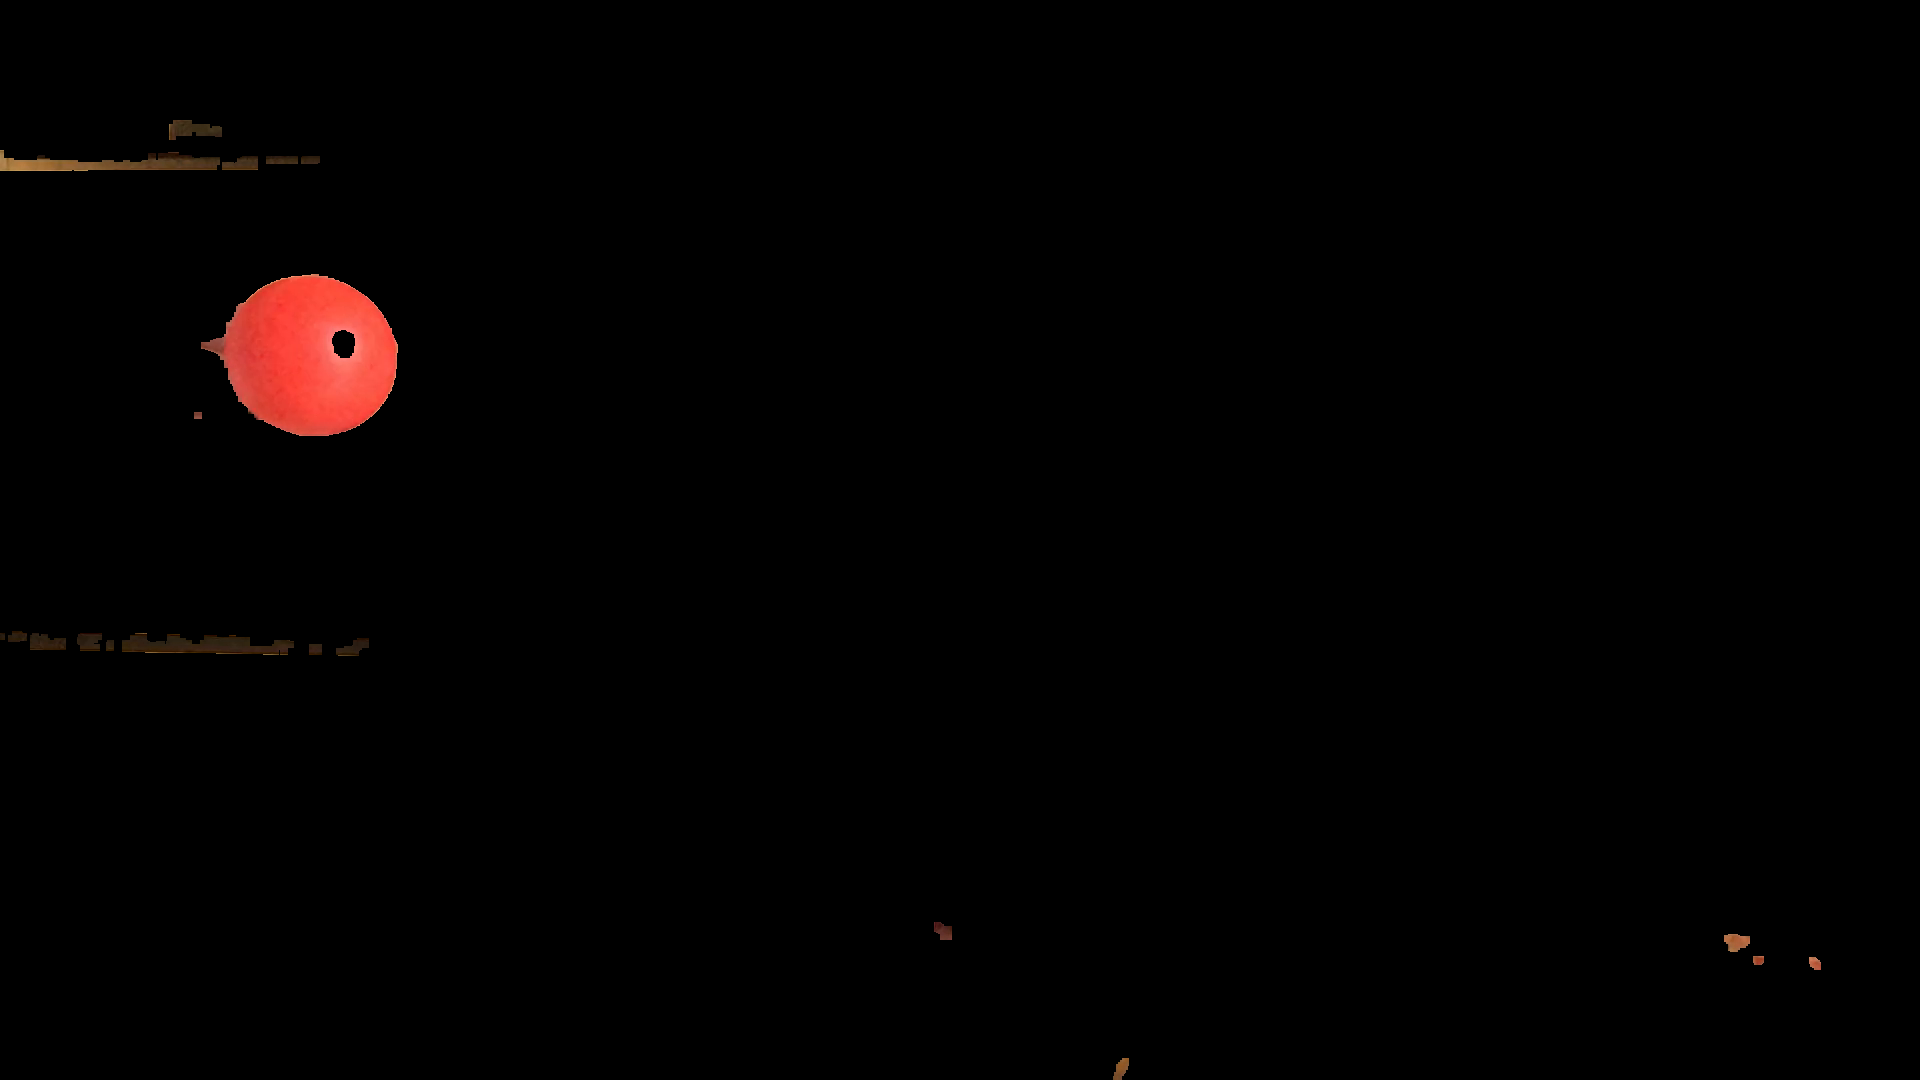Ball: (223, 274, 400, 435)
